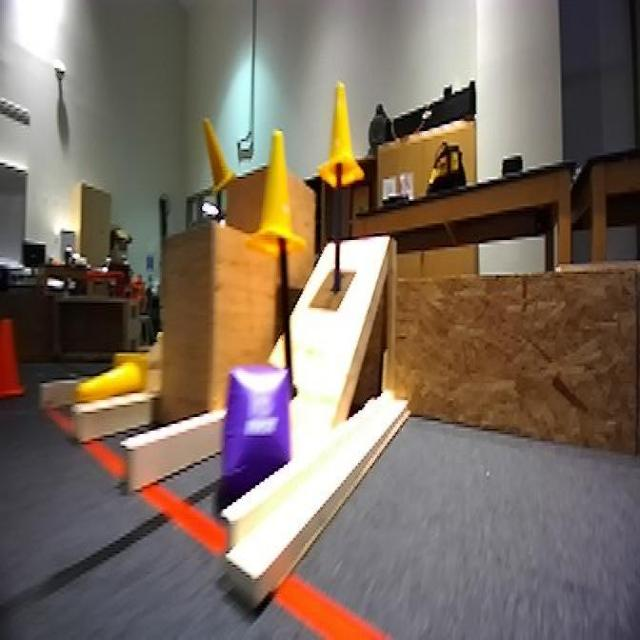frc_cone: (250, 129, 306, 254), (318, 78, 364, 191), (76, 349, 151, 412), (205, 112, 240, 199)
frc_cube: (212, 362, 292, 496)
